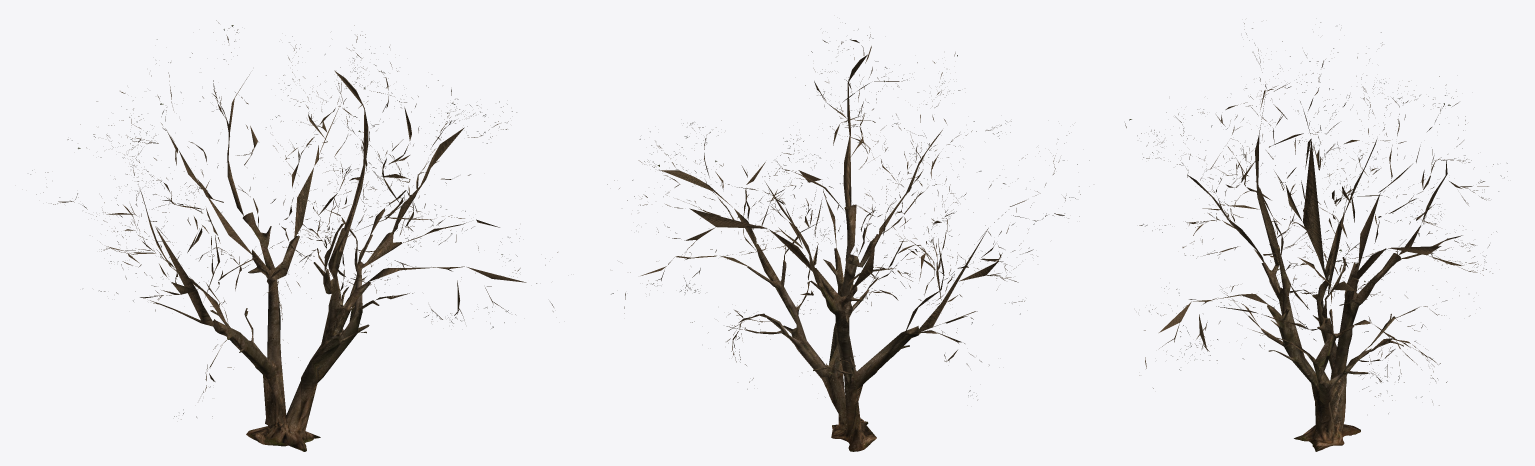
The model's file is jacaranda_tree.glb.
The picture shows the model from 3 angles, left to right: view 1: azimuth 30°, elevation 25°; view 2: azimuth 150°, elevation 25°; view 3: azimuth 270°, elevation 25°; orthographic projection. The views are drawn at different scales.
Visible parts, largest first — view 1: jacaranda_tree_LOD0; view 2: jacaranda_tree_LOD0; view 3: jacaranda_tree_LOD0.
Boxes of the visible parts, x1=… form: jacaranda_tree_LOD0: x1=30, y1=20, x2=557, y2=451; jacaranda_tree_LOD0: x1=607, y1=23, x2=1089, y2=451; jacaranda_tree_LOD0: x1=1125, y1=22, x2=1507, y2=451.
Bounding box in the file's own units: 23.51 × 19.33 × 17.87.
3 materials, 3 textured.
